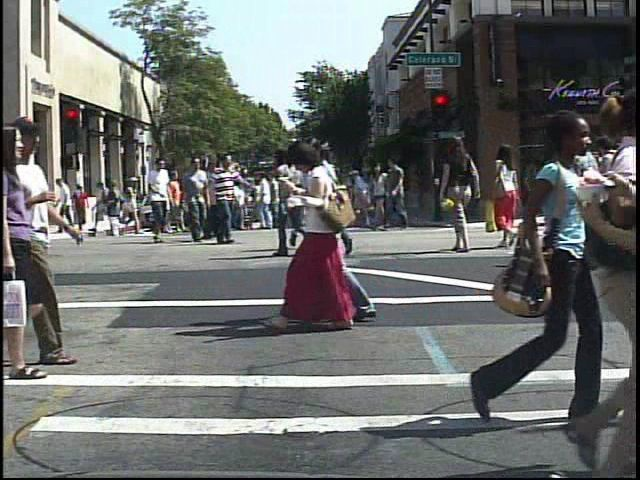person: (12, 107, 89, 369), (274, 136, 363, 338), (308, 129, 383, 329), (2, 119, 48, 383), (561, 118, 602, 270), (270, 134, 316, 264), (595, 132, 634, 274), (436, 134, 482, 248), (485, 141, 530, 257), (314, 150, 359, 260), (287, 141, 329, 251), (205, 152, 244, 246), (181, 155, 217, 248), (583, 146, 615, 245), (142, 154, 174, 246), (123, 173, 144, 241), (73, 182, 93, 230)
